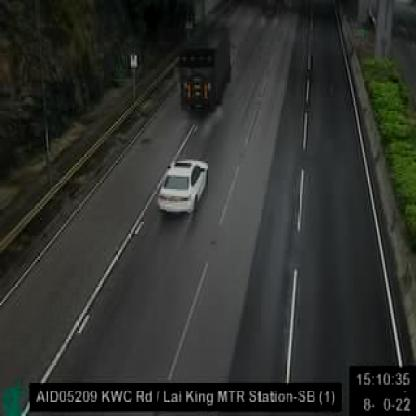Car: (159, 158, 211, 218)
Truck: (175, 21, 232, 113)
